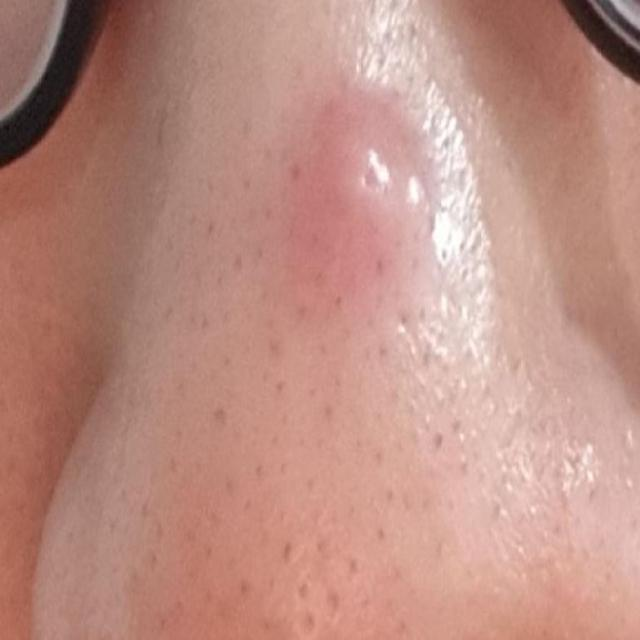nodule: (293, 91, 434, 280)
